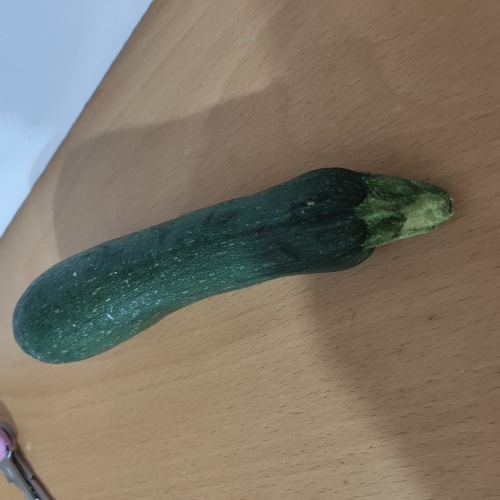zucchine: (13, 164, 454, 372)
